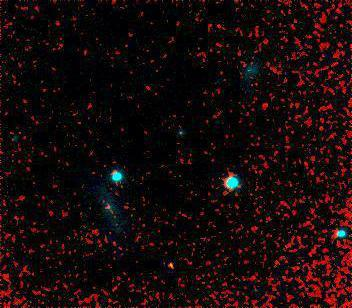star: (149, 255, 179, 285)
